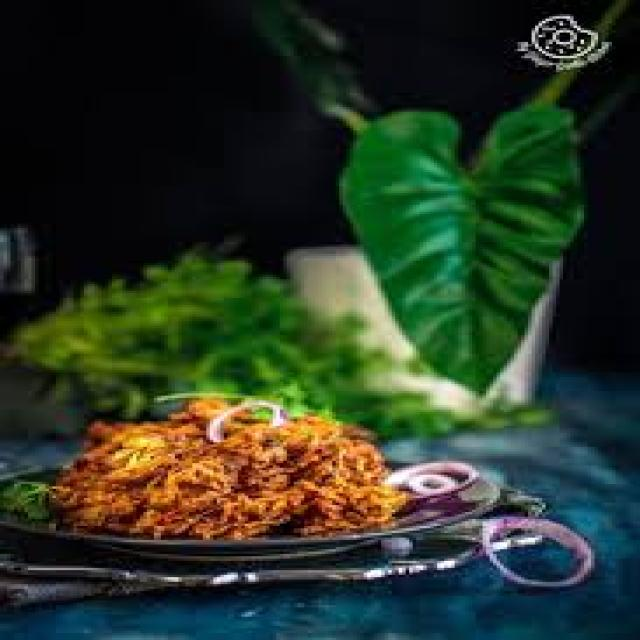BAJI: (62, 408, 401, 535)
